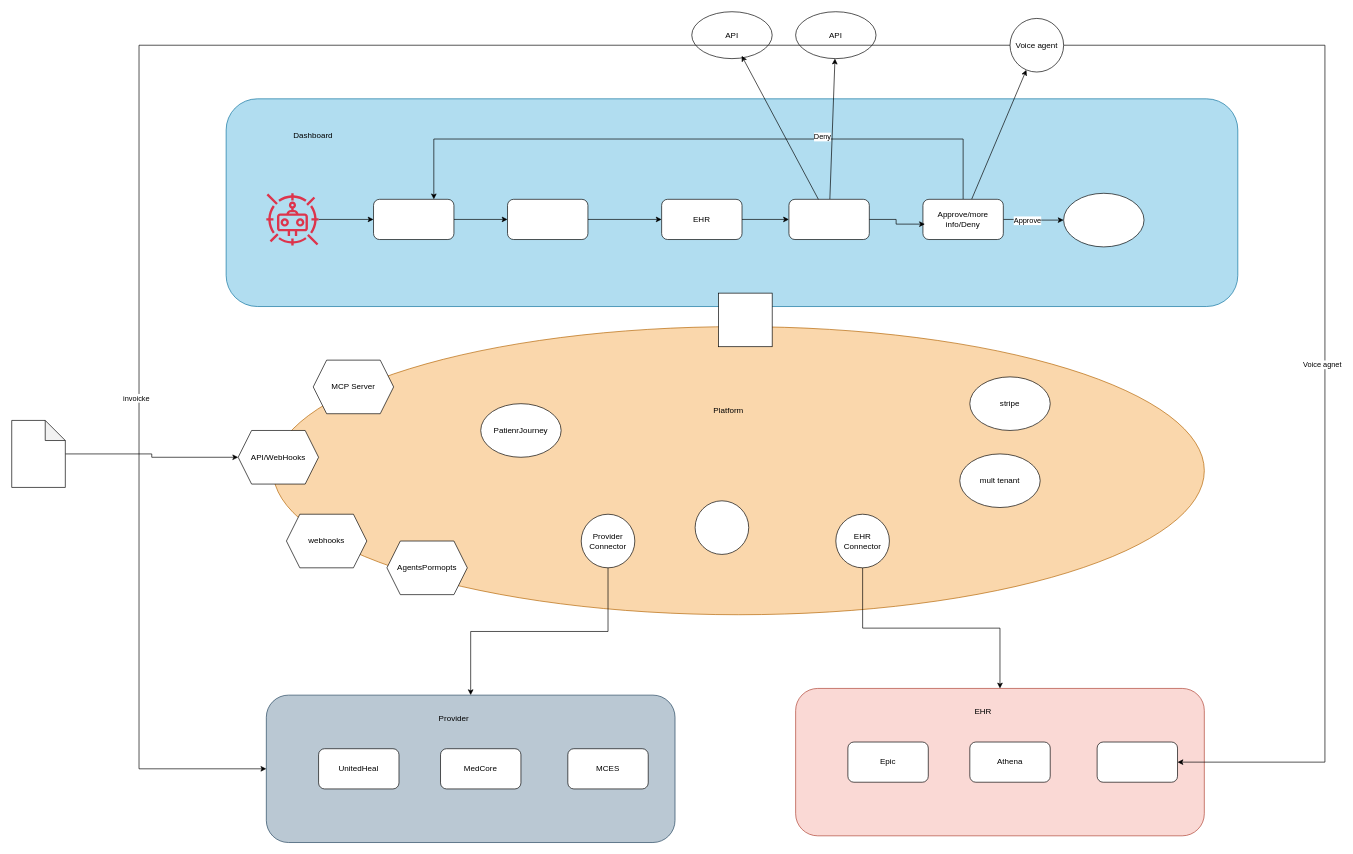
The diagram is 1353 pixels wide and 854 high, and some of its shapes have lost their labels. The shapes that lost their labels are listed below. From the top down, each one's centre as x and y in pixels, then its label:
At (413,219): "Input Patient".
At (547,219): "Provicer".
At (828,219): "Business rules".
At (1103,220): "end".
At (38,453): "Logic".
At (721,527): "email".
At (1137,761): "Oracle Health".
